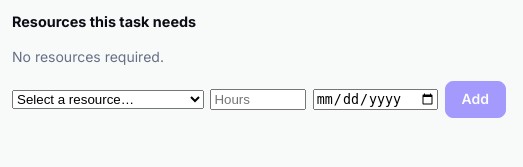
Test: TaskResources — what a task needs › confirms a clean booking rather than going silent
Select "RED Camera · Equipment" in the dropdown with test id "task-resource-picker" at (108, 100), box [12,90,204,109]
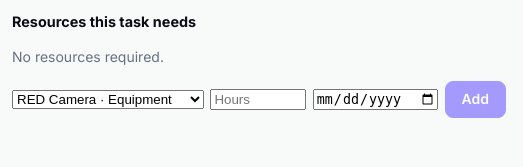
Type "16" into the number field with test id "task-resource-hours" at (258, 100), box [210,89,306,110]
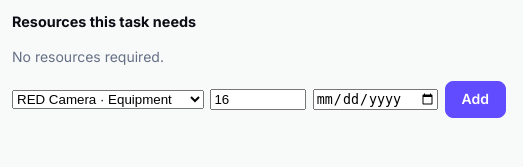
Click the button with test id "task-resource-add-submit" at (475, 100), box [444,81,506,118]
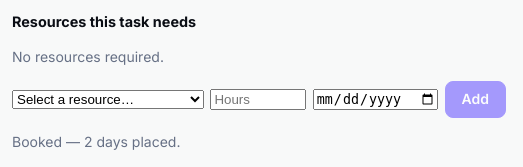
Result: the text with test id "requirement-outcome" shows "Booked" at [12,133,180,150]
